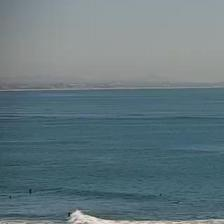surfer: (173, 202, 181, 204), (56, 187, 63, 189), (29, 189, 32, 193), (9, 195, 12, 199), (159, 194, 162, 197), (68, 212, 70, 216)
